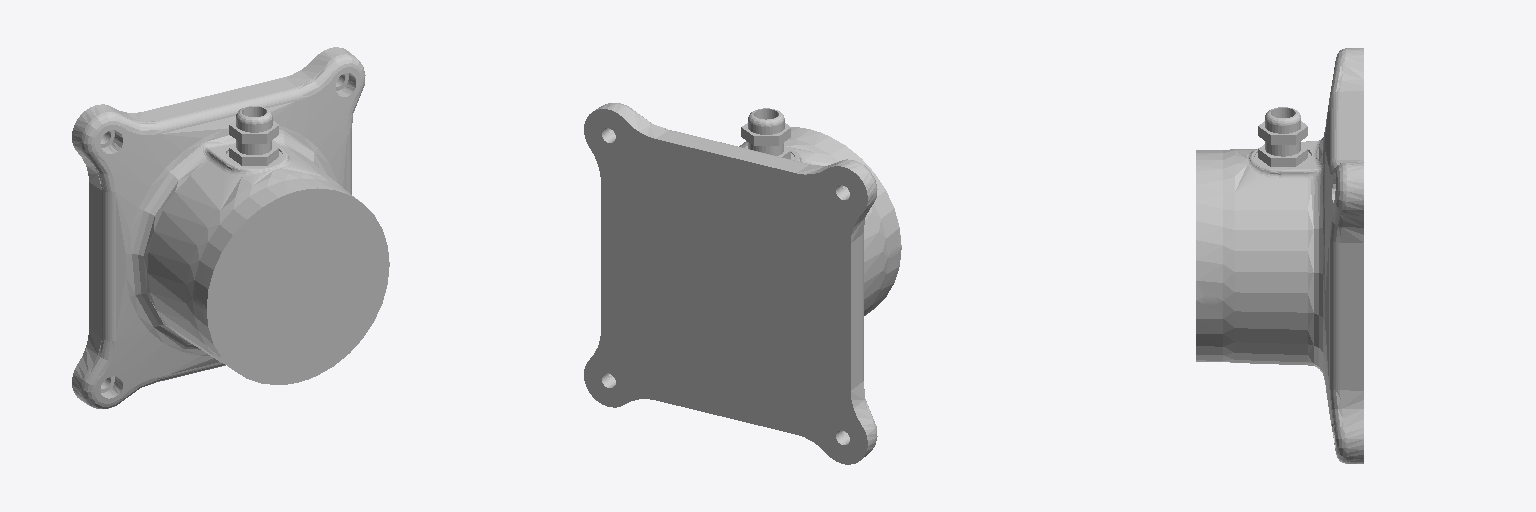
The picture shows the model from 3 angles: view 1: azimuth 30°, elevation 25°; view 2: azimuth 150°, elevation 25°; view 3: azimuth 270°, elevation 25°; orthographic projection.
Parts seen in each view (by area): view 1: BASE_A0509; view 2: BASE_A0509; view 3: BASE_A0509.
Part boxes in pixels (left/top/right/bottom): BASE_A0509: left=72, top=47, right=389, bottom=408; BASE_A0509: left=584, top=103, right=901, bottom=464; BASE_A0509: left=1196, top=48, right=1363, bottom=463.
Bounding box in the file's own units: 0.1819 × 0.1819 × 0.0935.